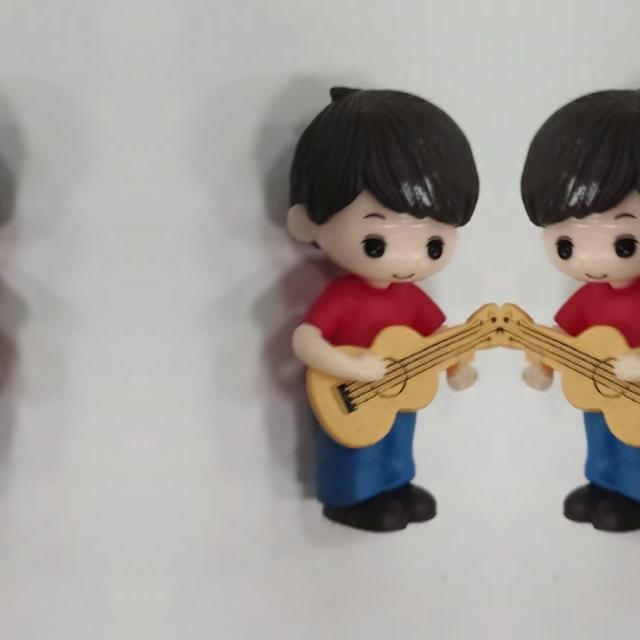man cloth: (278, 284, 474, 416), (525, 284, 640, 416), (0, 284, 2, 416)
man head: (259, 78, 486, 286), (513, 77, 640, 286), (0, 77, 20, 286)
trousers: (310, 409, 448, 555), (552, 409, 640, 555)
